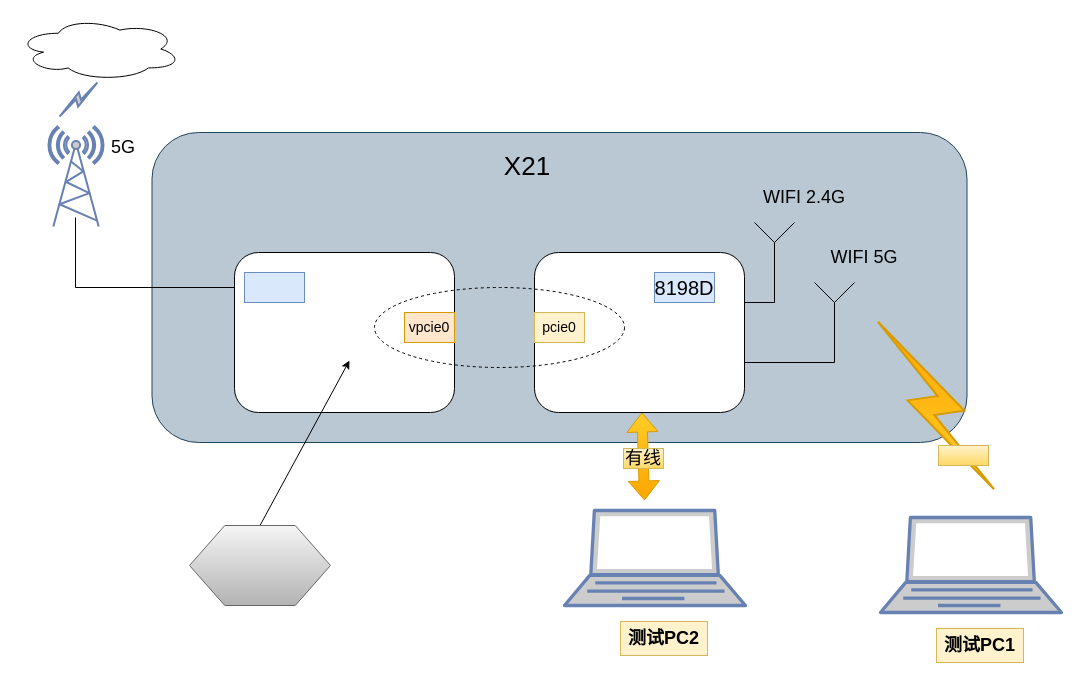
Image size: 1080x680. Some labels were removed from this diagram. The centre of each missing label's shape, as x and y in pixels:
"Orca" belongs at [274,287].
"WIFI" belongs at [963,455].
"测试点A： orca内部" belongs at [259,565].
